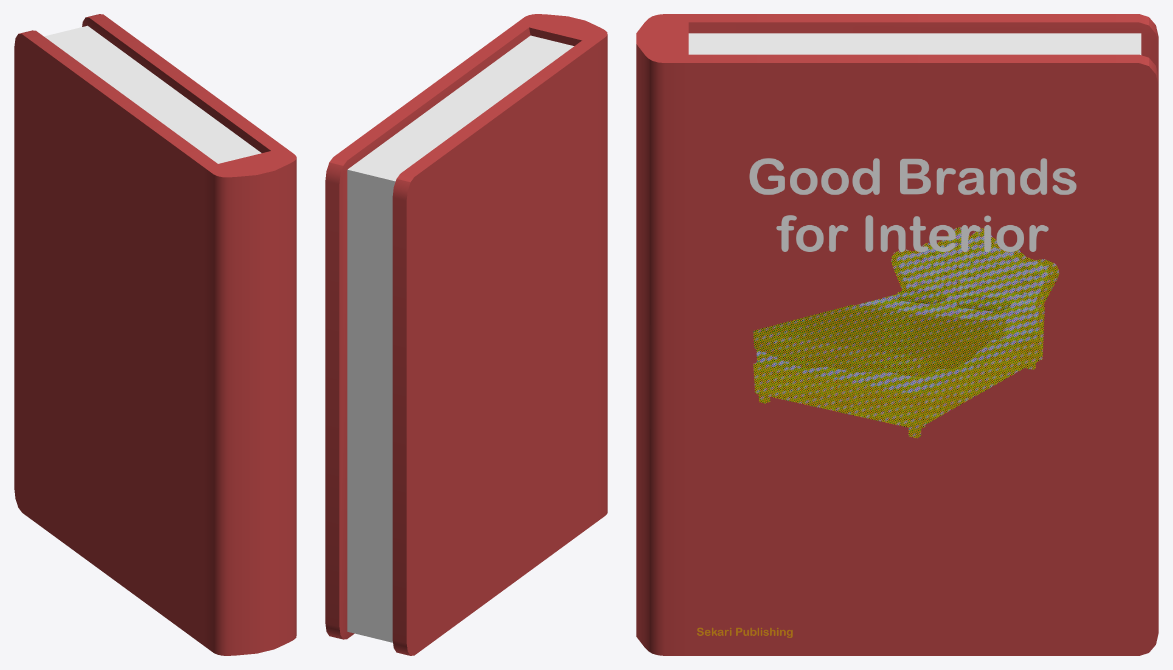
File: book 2.fbx
3 renders of one model, left to right at view 1: azimuth 30°, elevation 25°; view 2: azimuth 150°, elevation 25°; view 3: azimuth 270°, elevation 25°, orthographic. The views are drawn at different scales.
Parts seen in each view (by area): view 1: book 2; view 2: book 2; view 3: book 2.
Part boxes in pixels (left/top/right/bottom): book 2: left=14, top=14, right=296, bottom=655; book 2: left=325, top=14, right=607, bottom=655; book 2: left=636, top=14, right=1158, bottom=655.
Size of the model in its own units: 4.09 by 23.02 by 18.37.
1 material, 1 textured.
